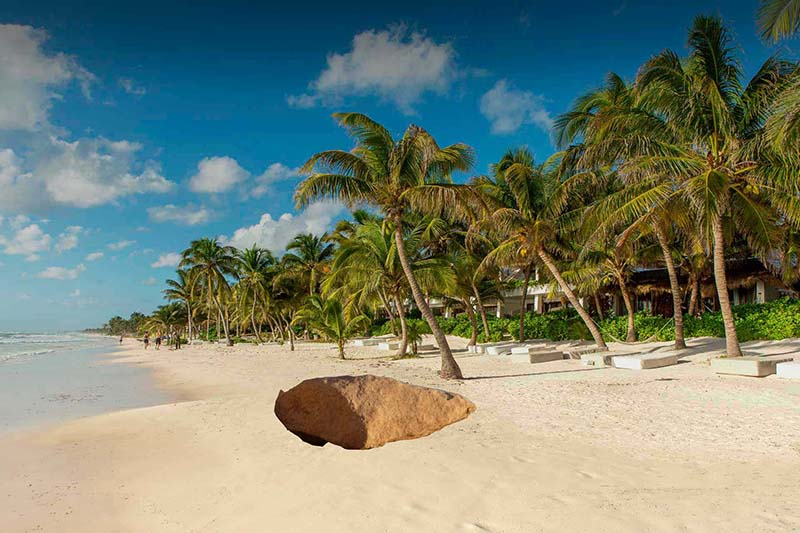Rocks: (272, 368, 477, 451)
